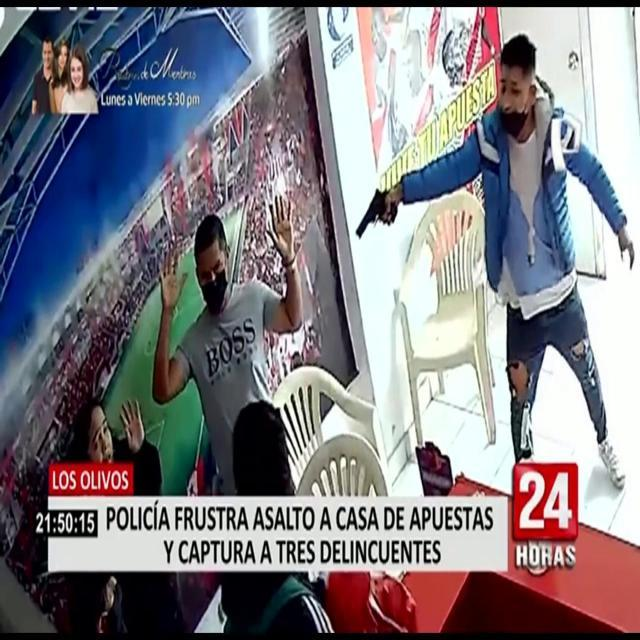weapon: (353, 169, 401, 253)
